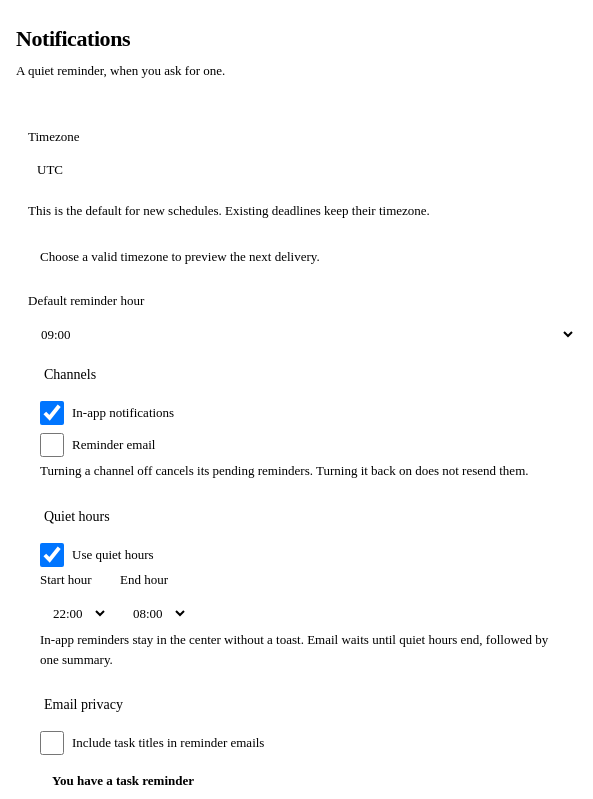
Test: notification preferences › saves opt-in and privacy only through the trusted UI and retains retry identity
Expected: the field labelled "Timezone" is shown, 28,153 -> 576,187
Step 1. Click the checkbox labelled "Reminder email" → x=52, y=445, box 40,433 -> 64,457
(page scrolled)
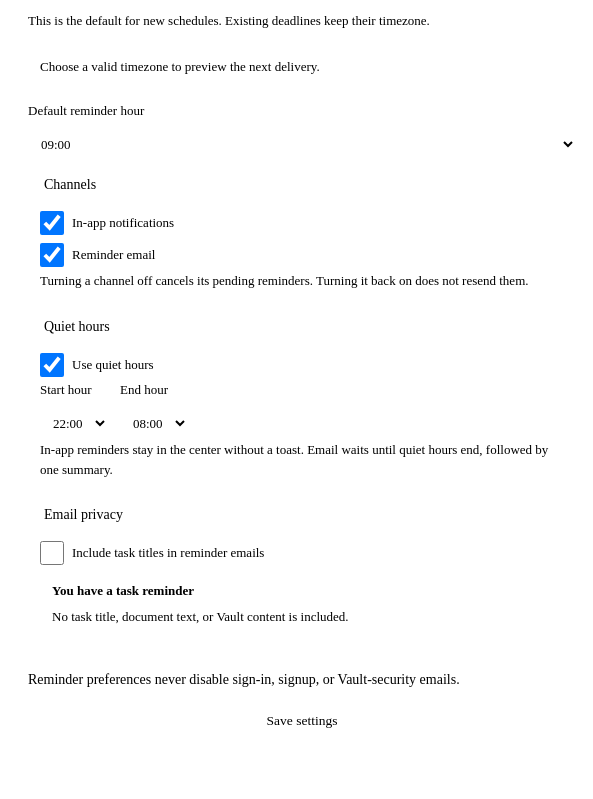
Step 2. Click the button "Save settings" → x=302, y=721, box 28,705 -> 576,737
(page scrolled)
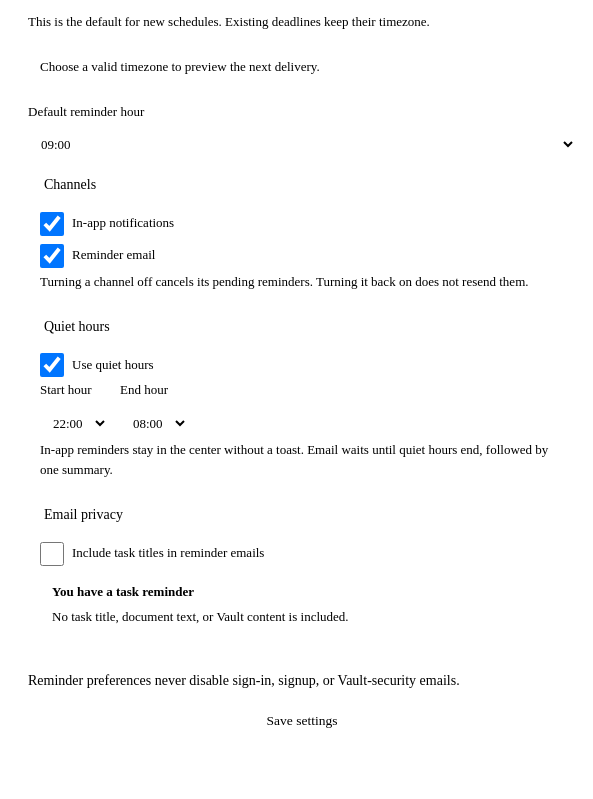
Expected: the checkbox labelled "Reminder email" is checked, 40,244 -> 64,268
Step 3. Click the button "Save settings" → x=302, y=721, box 28,705 -> 576,737
(page scrolled)
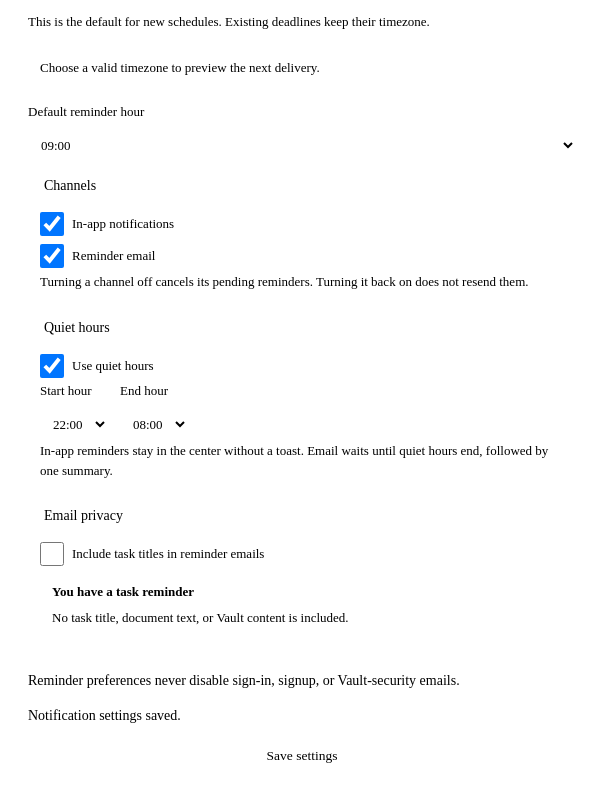
Expected: the message reads "Notification settings saved.", 28,708 -> 181,723
